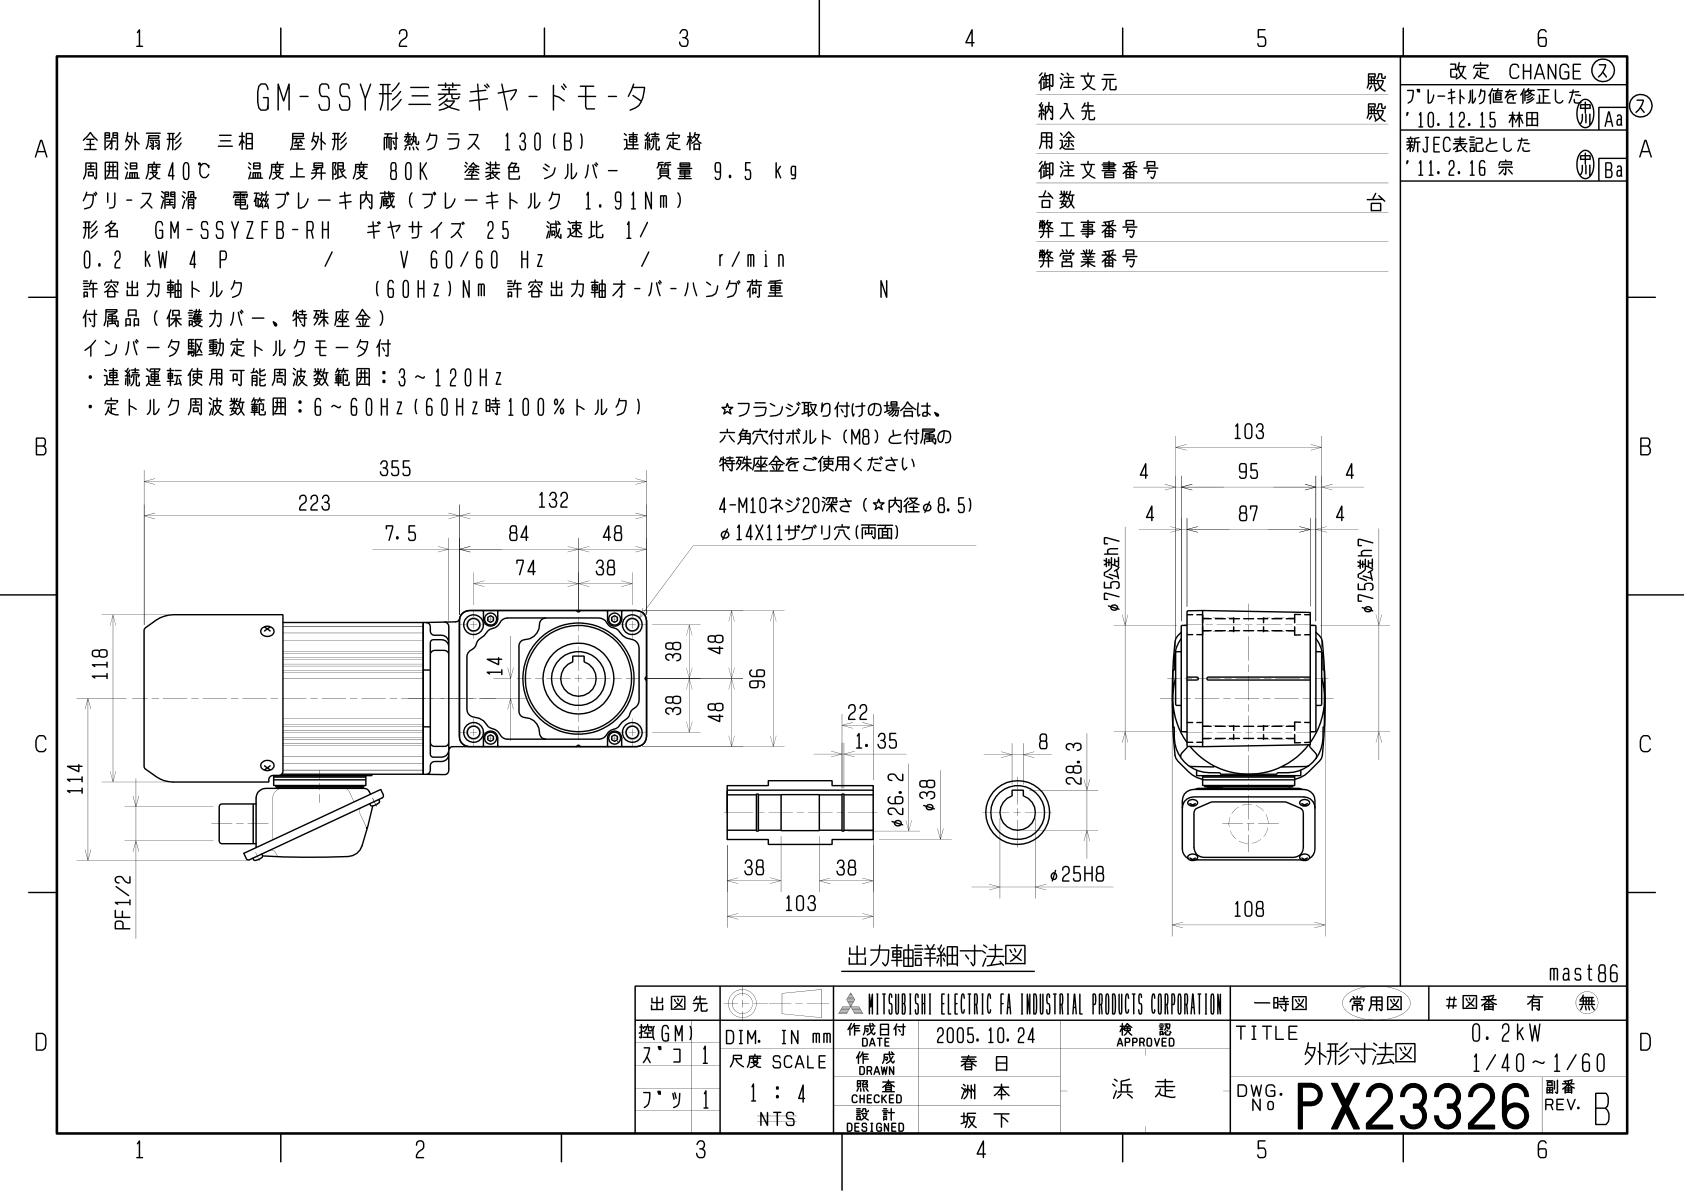GM_SSY_インバータ屋外_三相: (1, 1, 1674, 1172)
